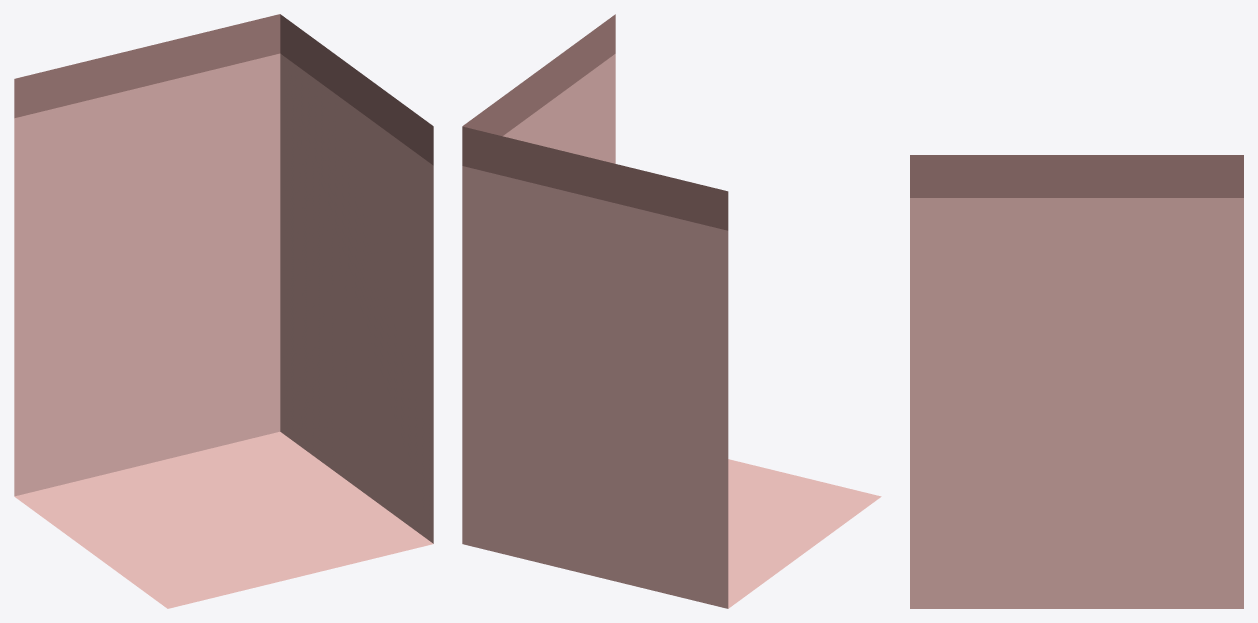
File: Wall_Corner.fbx
3 views of the same model, side by side, from view 1: azimuth 30°, elevation 25°; view 2: azimuth 150°, elevation 25°; view 3: azimuth 270°, elevation 25° (orthographic). The views are drawn at different scales.
Parts seen in each view (by area): view 1: Wall_Corner; view 2: Wall_Corner; view 3: Wall_Corner.
Part boxes in pixels (x1,y1,x2,y2): Wall_Corner: (14,14,433,608); Wall_Corner: (462,14,881,608); Wall_Corner: (910,155,1243,608).
Size of the model in its own units: 2 by 3 by 2.
